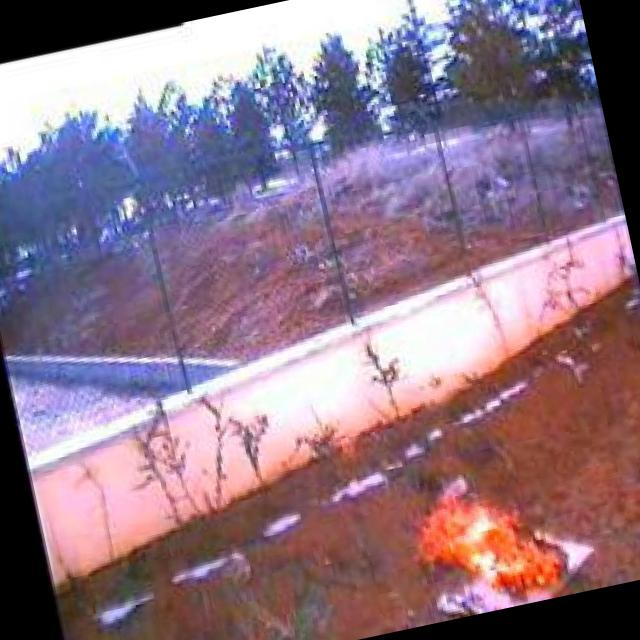Fire: (404, 466, 582, 624)
